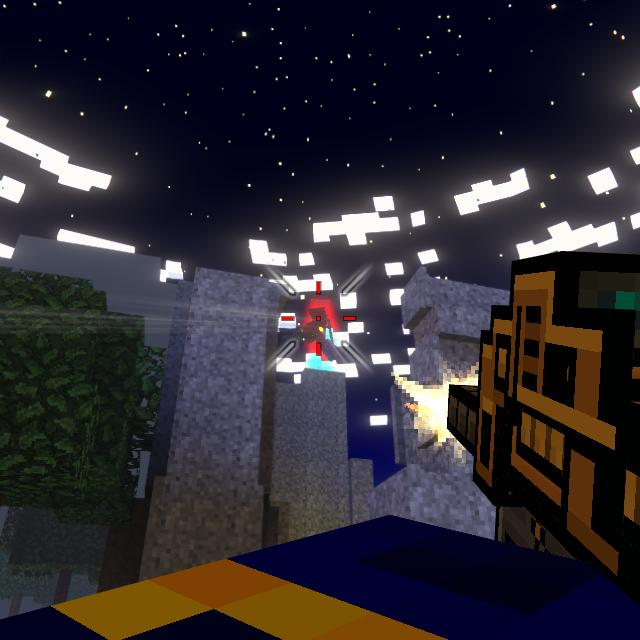Enemy: (306, 307, 332, 360)
